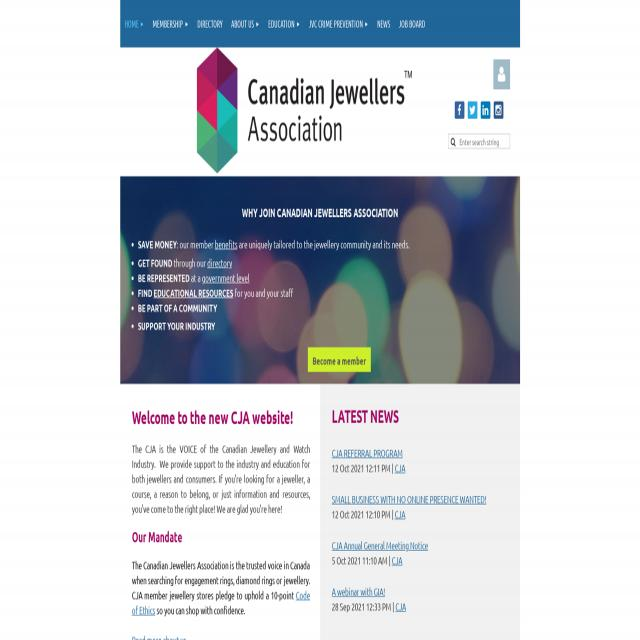button: (196, 48, 412, 174), (305, 0, 373, 48), (149, 0, 193, 48), (264, 0, 304, 48), (227, 0, 264, 48), (394, 0, 430, 48), (308, 346, 371, 372), (193, 0, 227, 48), (308, 347, 370, 372), (120, 0, 148, 48), (373, 0, 394, 48), (493, 60, 510, 89), (455, 102, 464, 119), (468, 102, 477, 119), (481, 102, 490, 119)
field: (448, 134, 510, 149)
